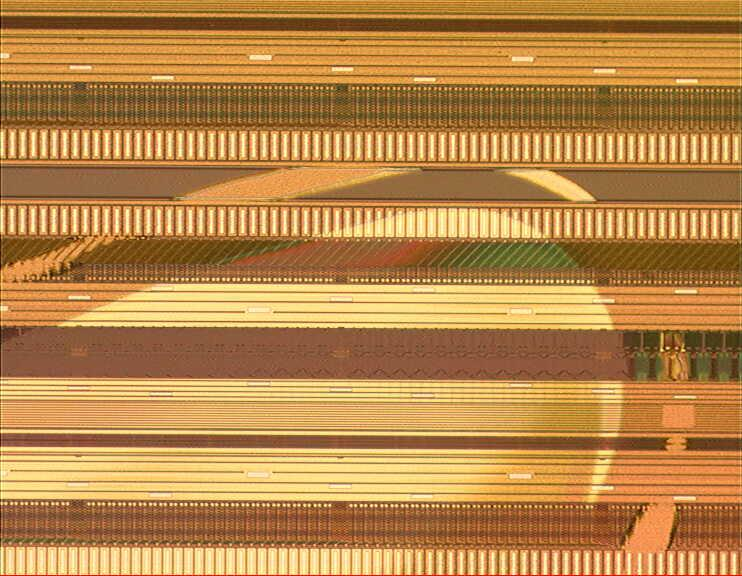COATING BAD: (1, 139, 704, 576)
